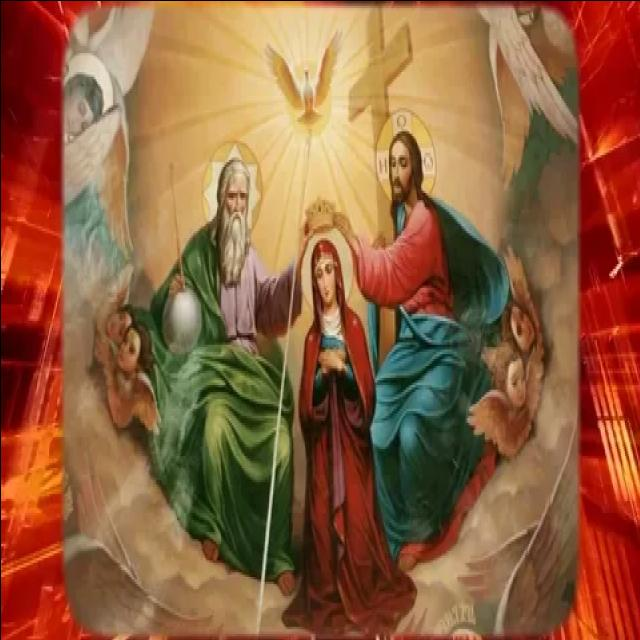mother of god: (292, 233, 382, 621)
